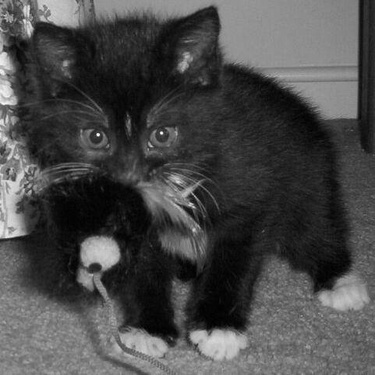cat: (9, 5, 369, 360)
